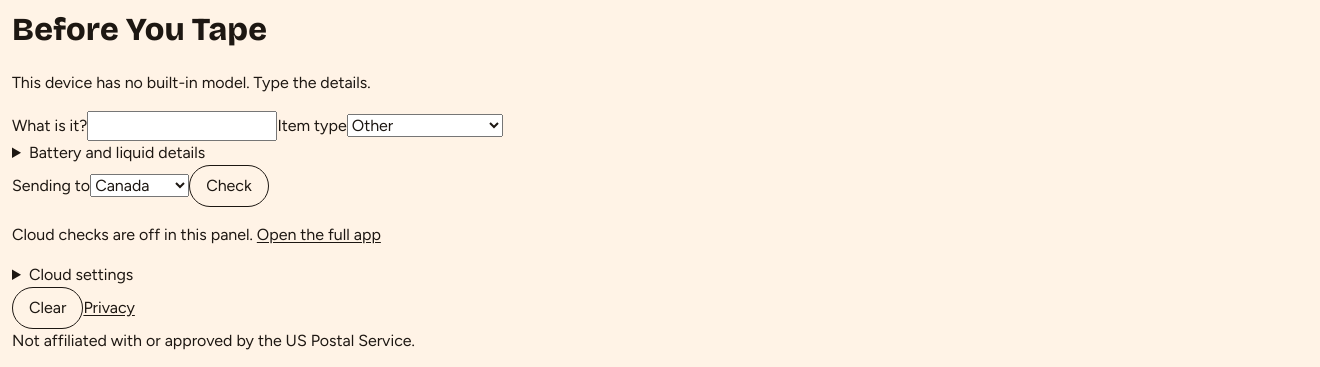
clears the panel data and returns to the notice
Type "Scarf" into the field labelled "What is it?".
click(182, 126); type("Scarf")  # box top-left (87, 111), bottom-right (277, 141)
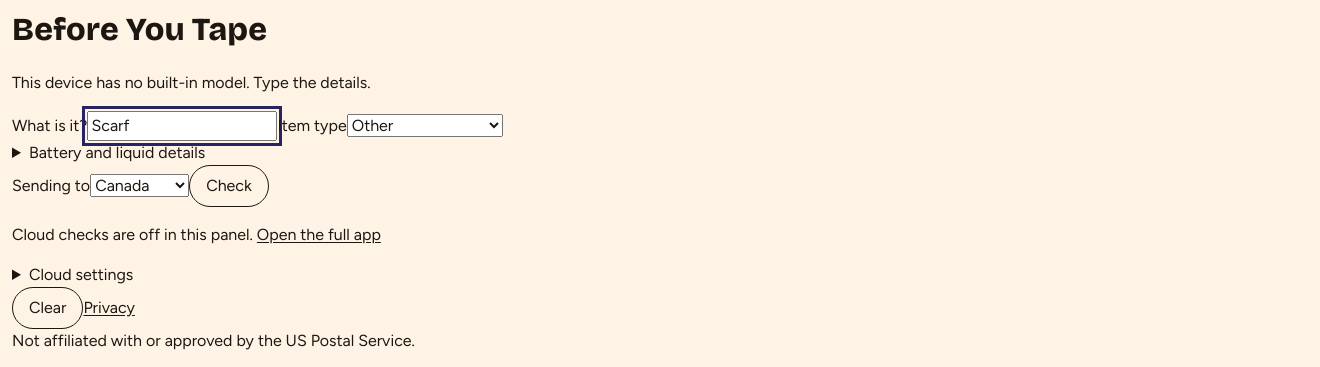
Click the button "Clear".
click(48, 308)  # box top-left (12, 287), bottom-right (83, 329)
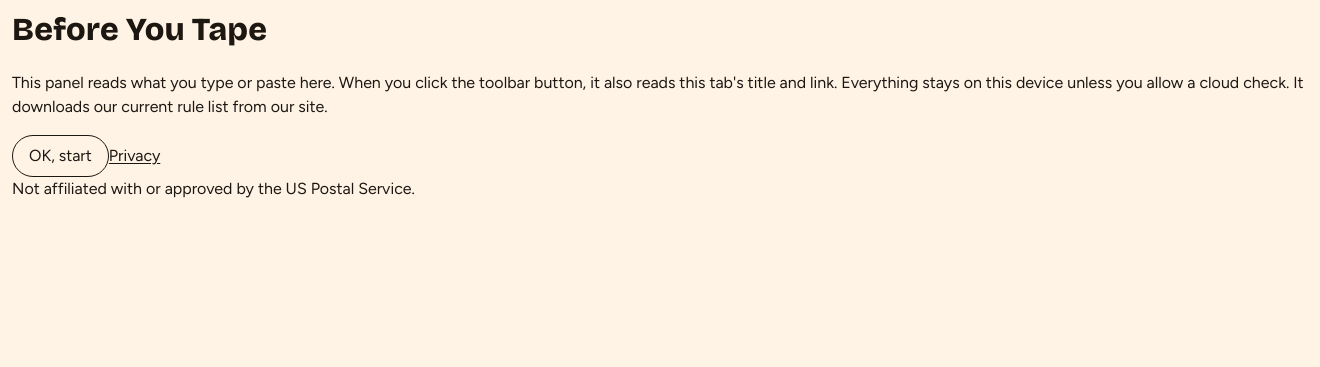
Now the label labelled "What is it?" is gone
Now the button "OK, start" is shown, box top-left (12, 135), bottom-right (109, 177)
